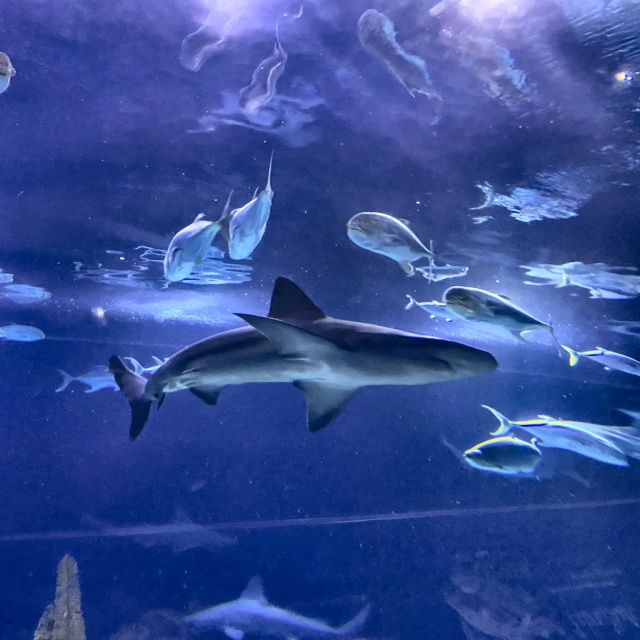fish: (480, 404, 628, 468), (444, 286, 559, 349), (162, 189, 235, 282), (346, 212, 433, 285), (228, 160, 275, 261), (464, 434, 543, 475), (561, 344, 639, 378), (54, 365, 120, 393), (123, 356, 170, 376), (0, 323, 46, 342), (0, 52, 16, 95)
shark: (108, 276, 499, 443), (180, 575, 371, 639), (80, 505, 238, 558)
